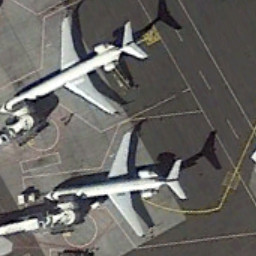Airplane: (38, 123, 191, 242), (1, 10, 153, 121)
